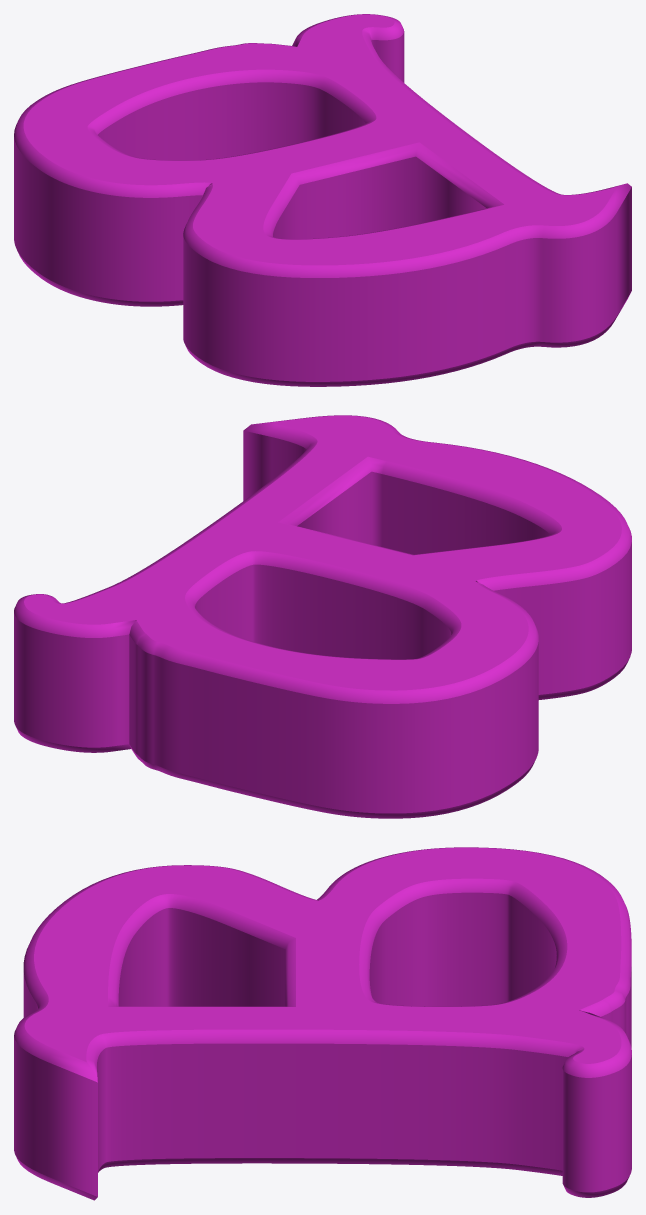
File: Letter_B.fbx
3 renders of one model, top to bottom at view 1: azimuth 30°, elevation 25°; view 2: azimuth 150°, elevation 25°; view 3: azimuth 270°, elevation 25°, orthographic. The views are drawn at different scales.
Visible parts, largest first — view 1: Letter_B; view 2: Letter_B; view 3: Letter_B.
Boxes of the visible parts, left/top/right/bottom form: Letter_B: left=14, top=14, right=631, bottom=386; Letter_B: left=14, top=415, right=631, bottom=818; Letter_B: left=14, top=847, right=631, bottom=1200.
Bounding box in the file's own units: 0.5163 × 0.14 × 0.5869.
